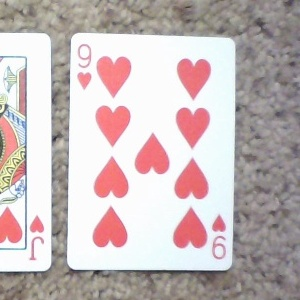card: (66, 29, 234, 271)
